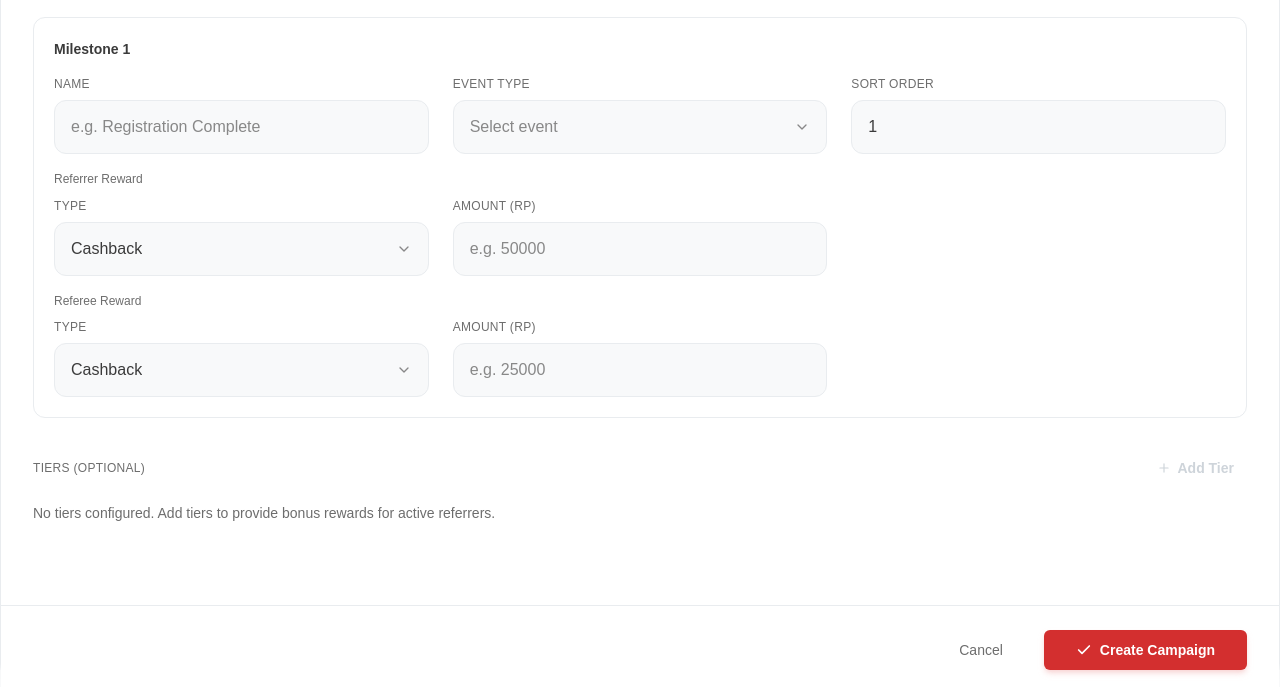
Scenario: Campaign Create/Edit Form › tier repeater add/remove › removes a tier when remove button is clicked
(page scrolled)
// Add a tier
Click the button "Add Tier": [1196, 468] box [1144,450,1247,486]
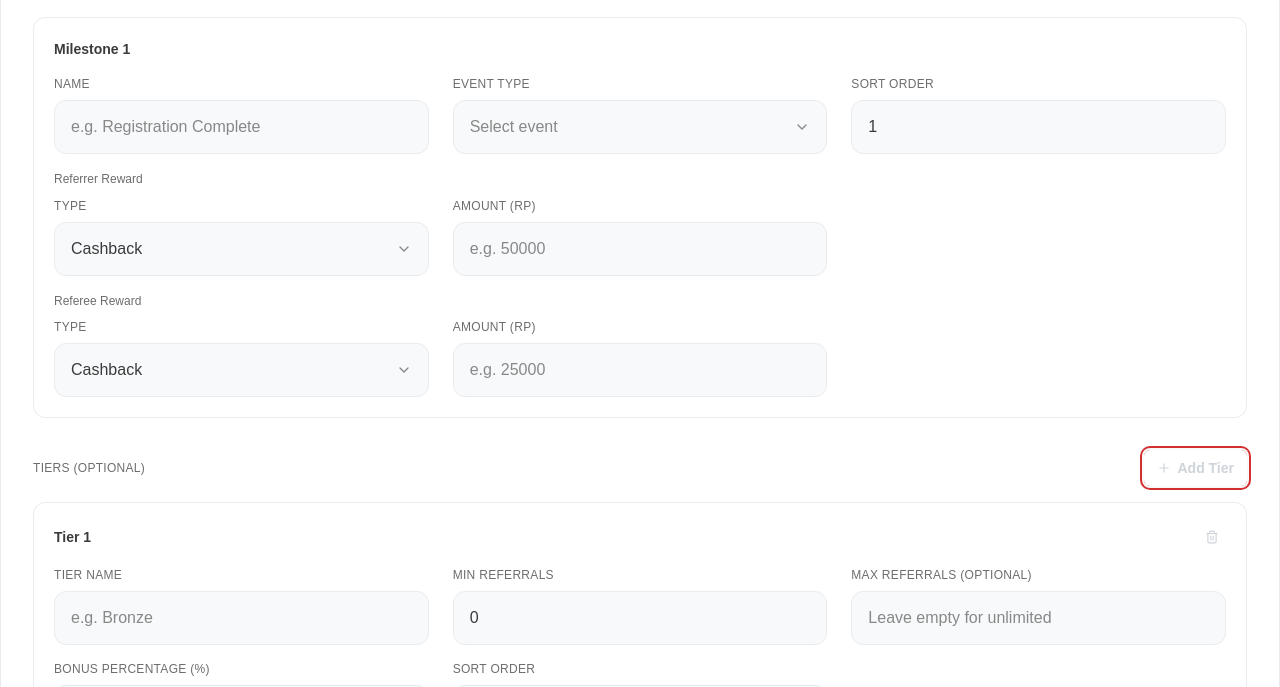
Now the text "Tier 1" is shown, box [54,526,91,549]
// Remove the tier
Click the button named "Remove tier": [1212, 537] box [1198,523,1226,551]
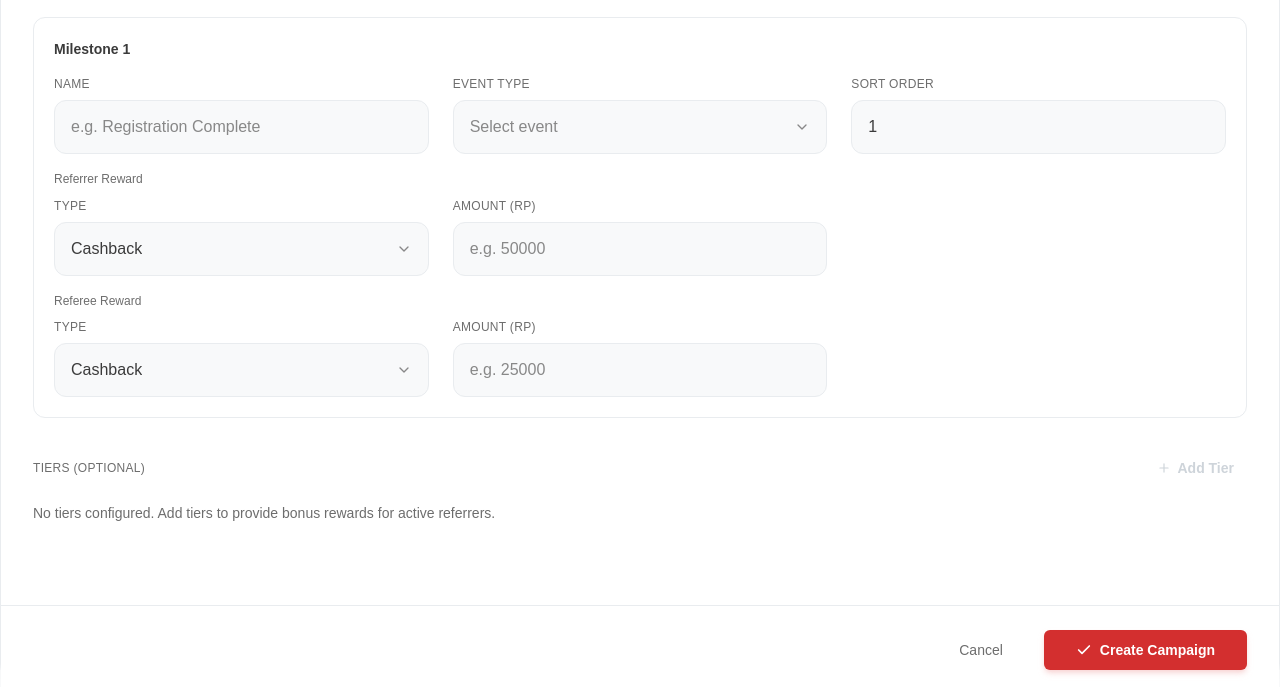
Now the text "Tier 1" is gone
